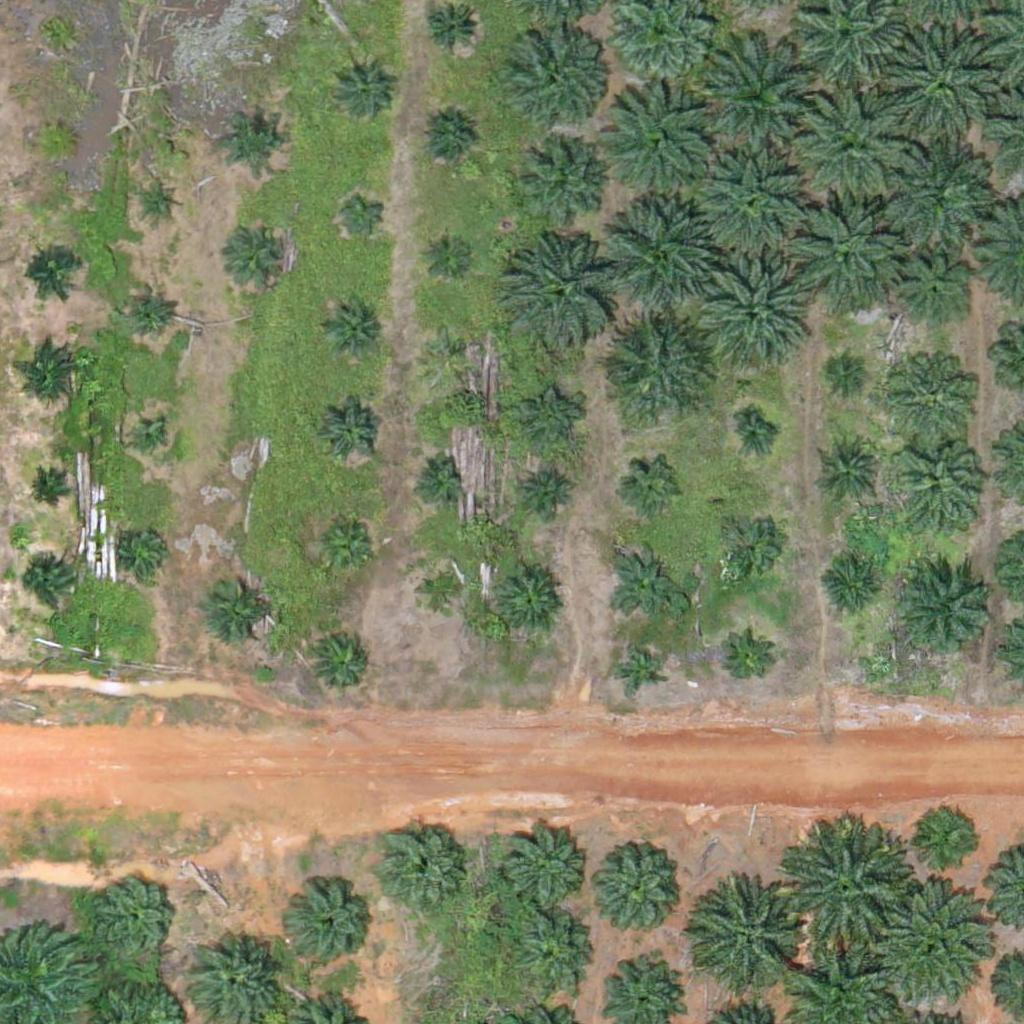Kelapa_Sawit: (784, 832, 909, 958), (700, 36, 825, 162), (498, 230, 623, 356), (884, 887, 997, 1001), (695, 144, 808, 258), (605, 89, 718, 203), (886, 29, 999, 142), (872, 130, 985, 243), (693, 253, 806, 366), (606, 195, 719, 308), (597, 310, 710, 423), (786, 190, 898, 304), (797, 88, 909, 201), (586, 837, 686, 938), (891, 560, 991, 661), (506, 23, 606, 124), (697, 891, 797, 991), (375, 822, 463, 910), (886, 351, 974, 439), (894, 445, 982, 533), (516, 140, 604, 228), (513, 908, 600, 996), (501, 825, 588, 913), (288, 882, 375, 970), (92, 878, 179, 966), (202, 572, 277, 648), (892, 254, 967, 330), (491, 562, 566, 637), (607, 544, 682, 619), (232, 223, 295, 286), (221, 107, 284, 170), (319, 295, 382, 358), (319, 400, 382, 463), (312, 632, 375, 695), (820, 559, 883, 622), (917, 806, 980, 869), (715, 514, 778, 577), (312, 514, 375, 577), (22, 341, 84, 404), (21, 241, 83, 304), (331, 57, 393, 120), (519, 387, 581, 450), (623, 456, 685, 519), (417, 108, 479, 171), (721, 636, 771, 687), (525, 465, 575, 516), (614, 645, 664, 696), (423, 225, 473, 276), (422, 322, 472, 373), (412, 451, 462, 502), (338, 187, 388, 238), (22, 559, 72, 609), (122, 526, 172, 576), (823, 444, 873, 494), (416, 567, 466, 617), (124, 285, 174, 335), (831, 355, 869, 393), (141, 183, 179, 221), (131, 421, 169, 459), (38, 123, 76, 161), (736, 417, 773, 455), (26, 472, 63, 510)
